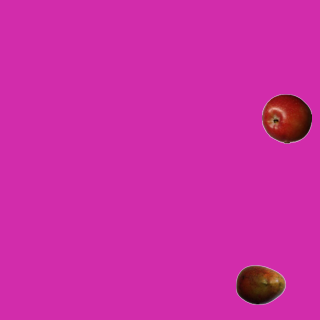Apple Braeburn: (261, 93, 311, 143)
Mango Red: (235, 259, 285, 309)
